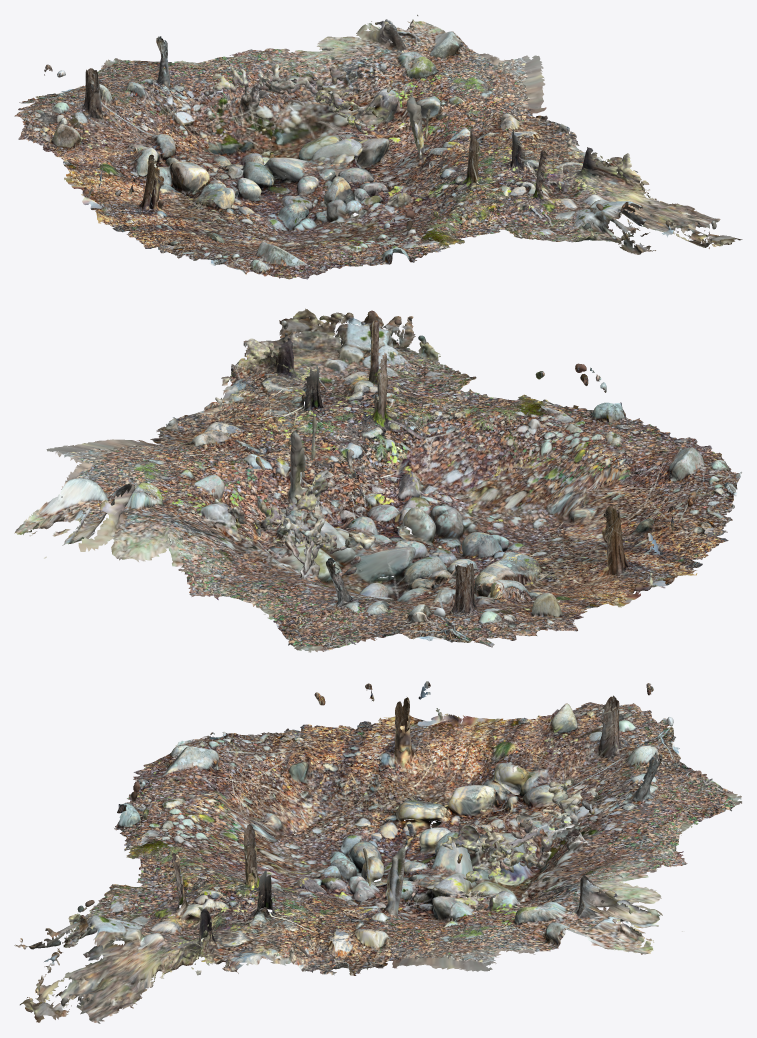
File: abound_20261120-1457_cellar_11.glb
The picture shows the model from 3 angles, top to bottom: view 1: azimuth 30°, elevation 25°; view 2: azimuth 150°, elevation 25°; view 3: azimuth 270°, elevation 25°; orthographic projection. The views are drawn at different scales.
Visible parts, largest first — view 1: Scene; view 2: Scene; view 3: Scene.
Part boxes in pixels (x1=…): Scene: x1=14, y1=14, x2=742, y2=279; Scene: x1=14, y1=308, x2=741, y2=652; Scene: x1=14, y1=681, x2=741, y2=1023.
Size of the model in its own units: 8.64 by 1.72 by 9.57.
Materials: 2 (2 with a texture image).
